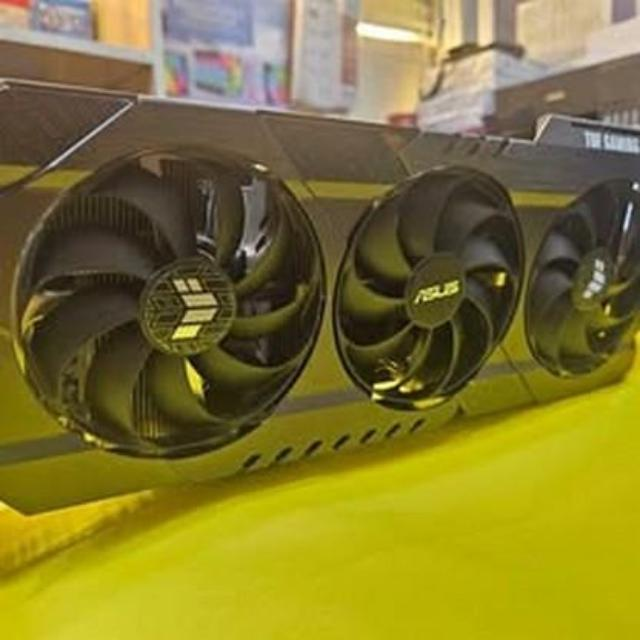GPU: (0, 66, 640, 534)
